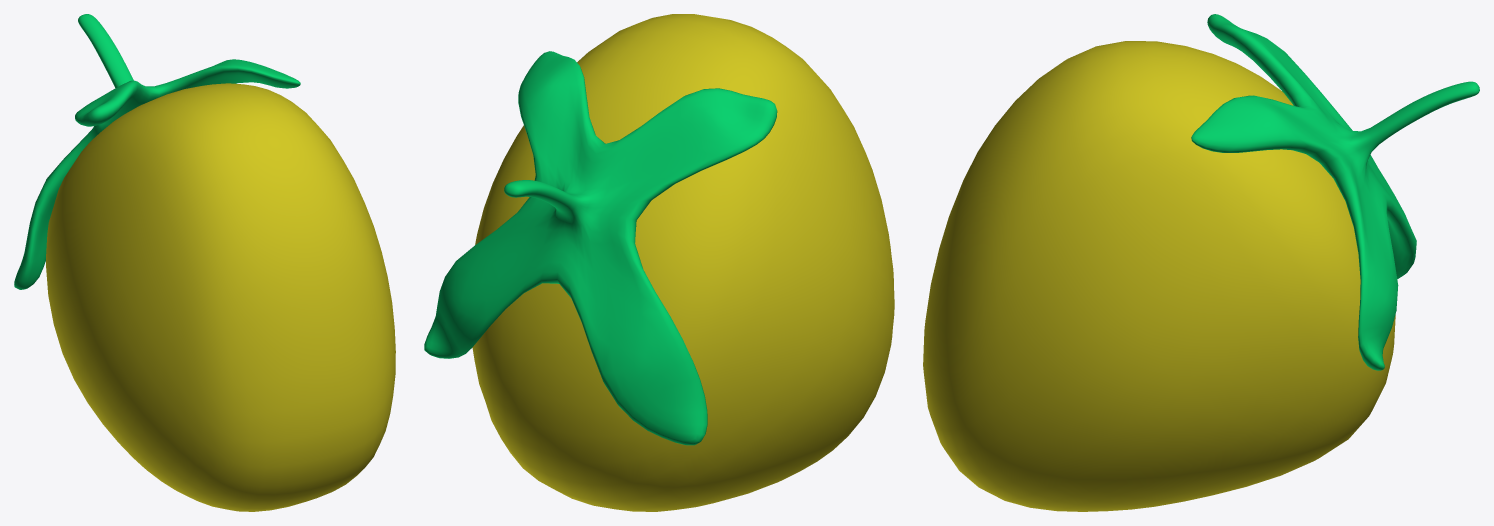
The model's file is zapberry.fbx.
The picture shows the model from 3 angles, left to right: view 1: azimuth 30°, elevation 25°; view 2: azimuth 150°, elevation 25°; view 3: azimuth 270°, elevation 25°; orthographic projection. The views are drawn at different scales.
Parts seen in each view (by area): view 1: polySurface4; view 2: polySurface4; view 3: polySurface4.
Part boxes in pixels (left/top/right/bottom): polySurface4: left=14, top=14, right=395, bottom=511; polySurface4: left=424, top=14, right=894, bottom=511; polySurface4: left=923, top=14, right=1479, bottom=511.
Bounding box in the file's own units: 1.17 × 1.52 × 1.76.
